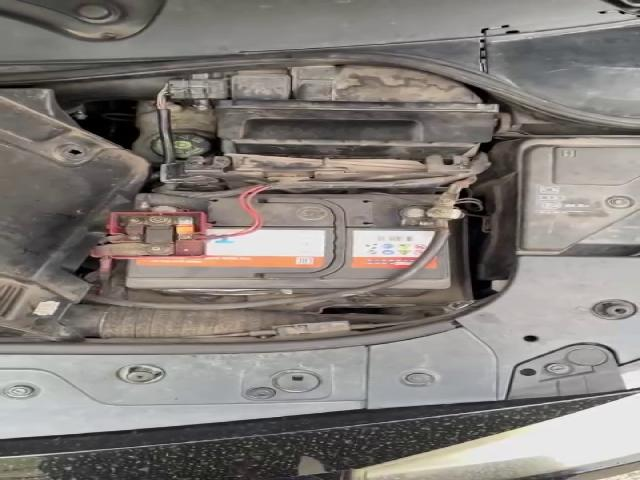accumulator: (90, 192, 464, 297)
fuse_box: (476, 138, 636, 280)
